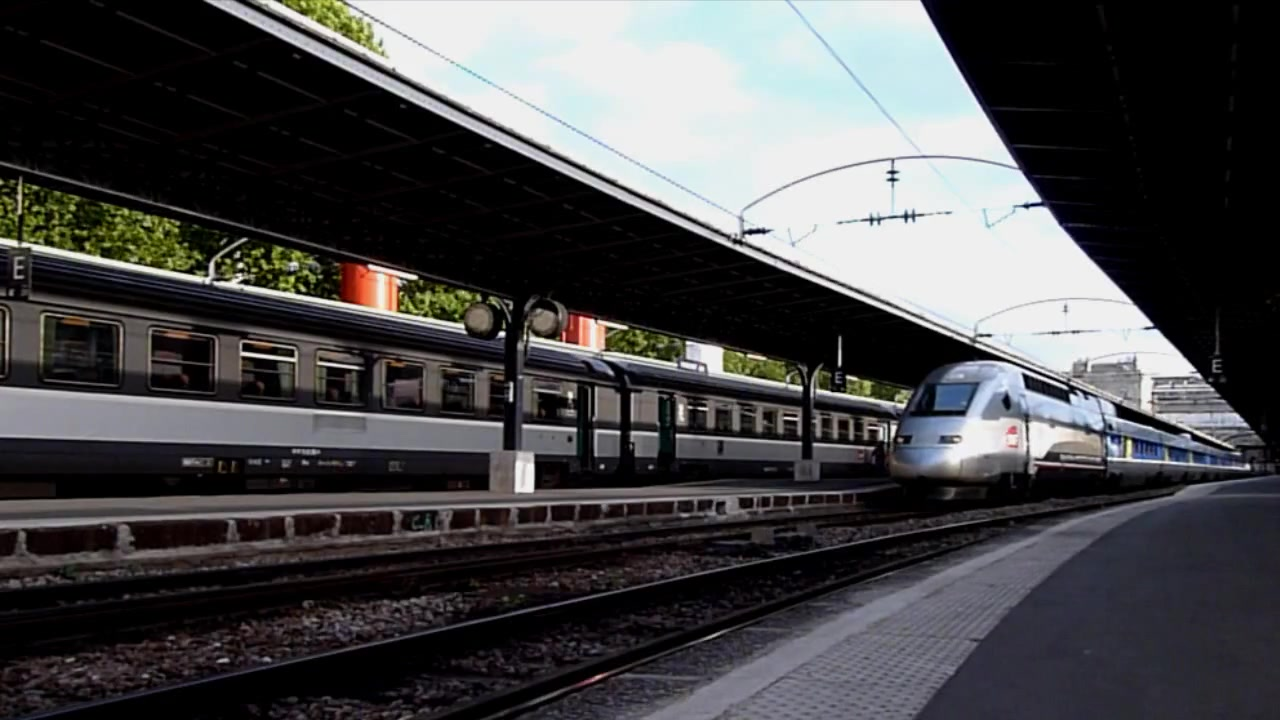train: (884, 355, 1264, 501)
